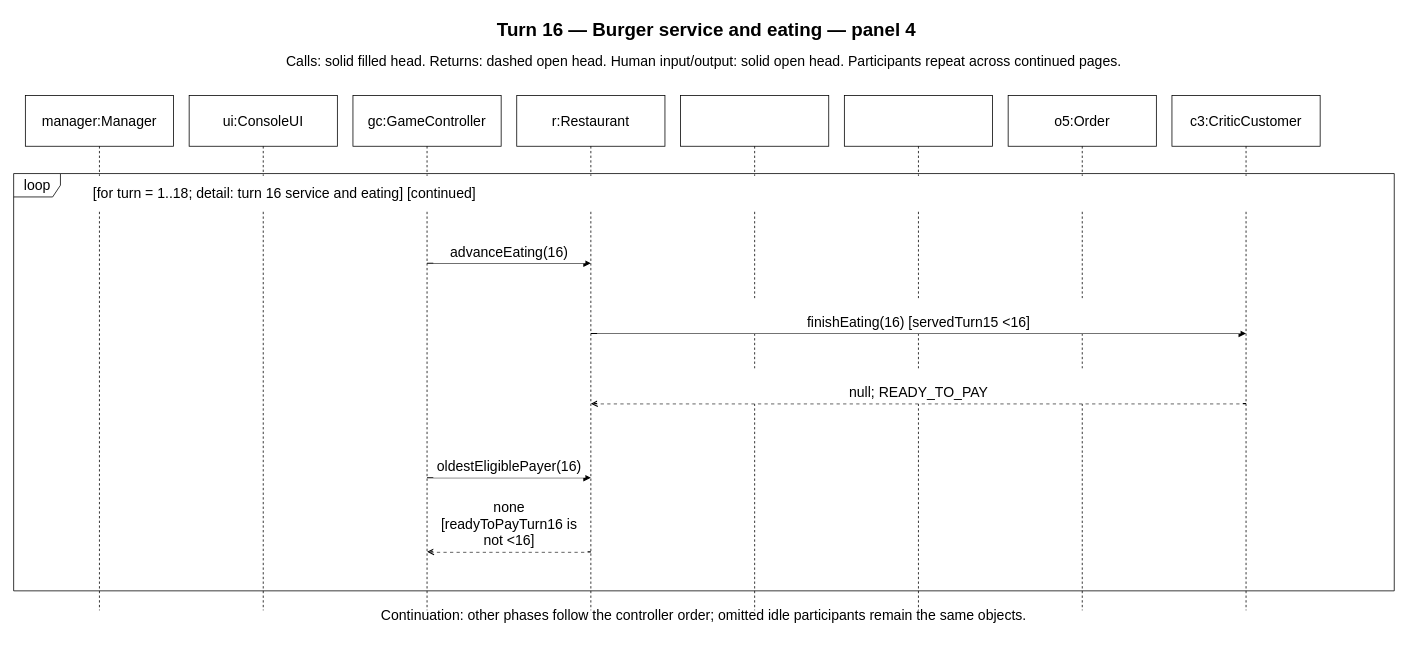
Image size: 1408x662. Some labels were removed from this diagram. The shapes that lost their labels are listed below. From the top down, each one's box as (x1, y1, x2, y2) in pixels, then its label:
(680, 95, 829, 610): waiter:Waiter
(844, 95, 993, 610): c5:RegularCustomer
